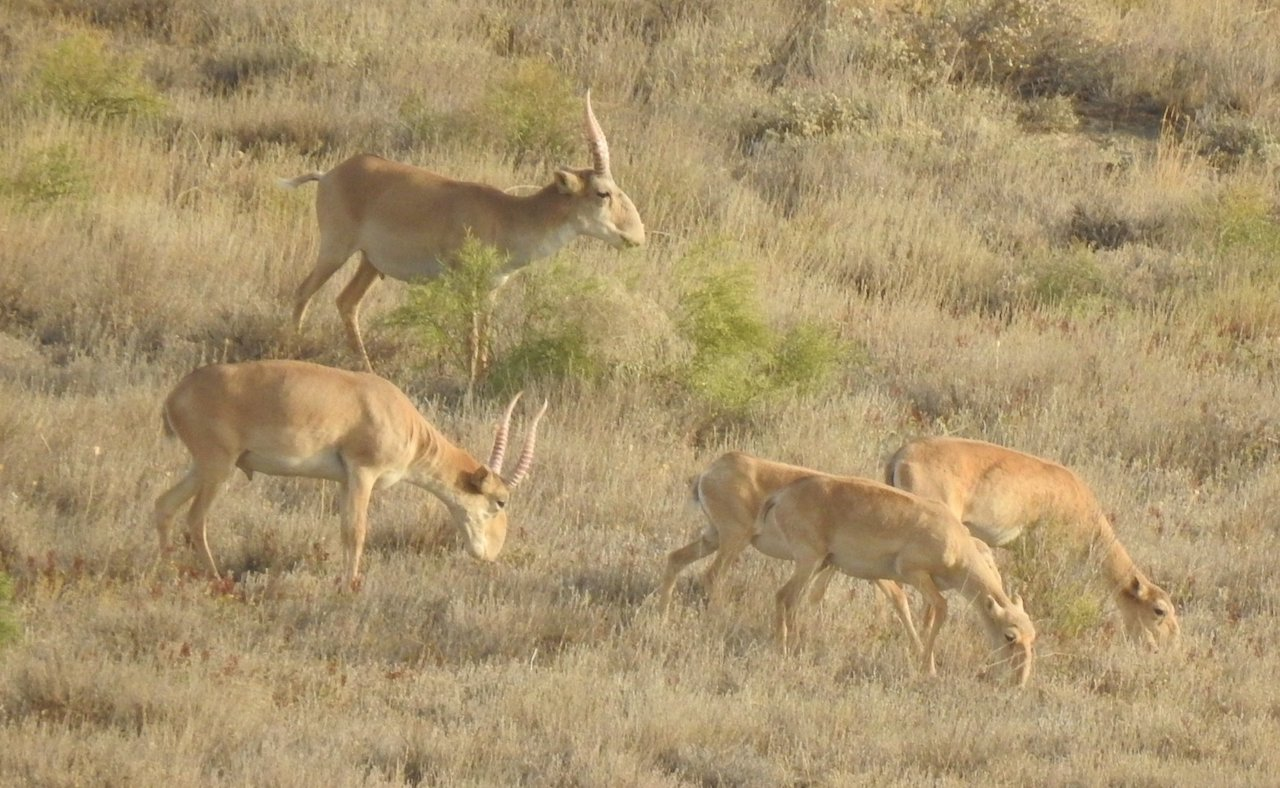saiga: (276, 86, 652, 391), (151, 361, 553, 591), (886, 433, 1205, 663), (756, 470, 1044, 700)
